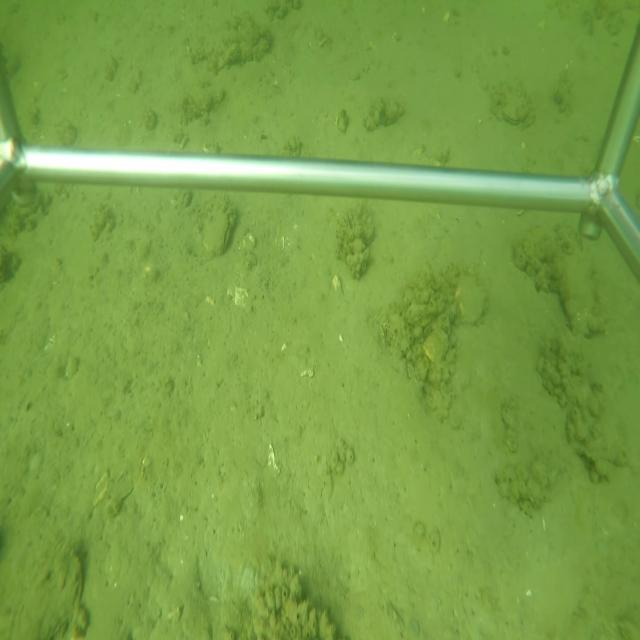Oyster-Closed: (201, 196, 236, 258), (494, 82, 534, 130)
Oyster-Indeterminate: (552, 230, 609, 347), (456, 273, 489, 327)
